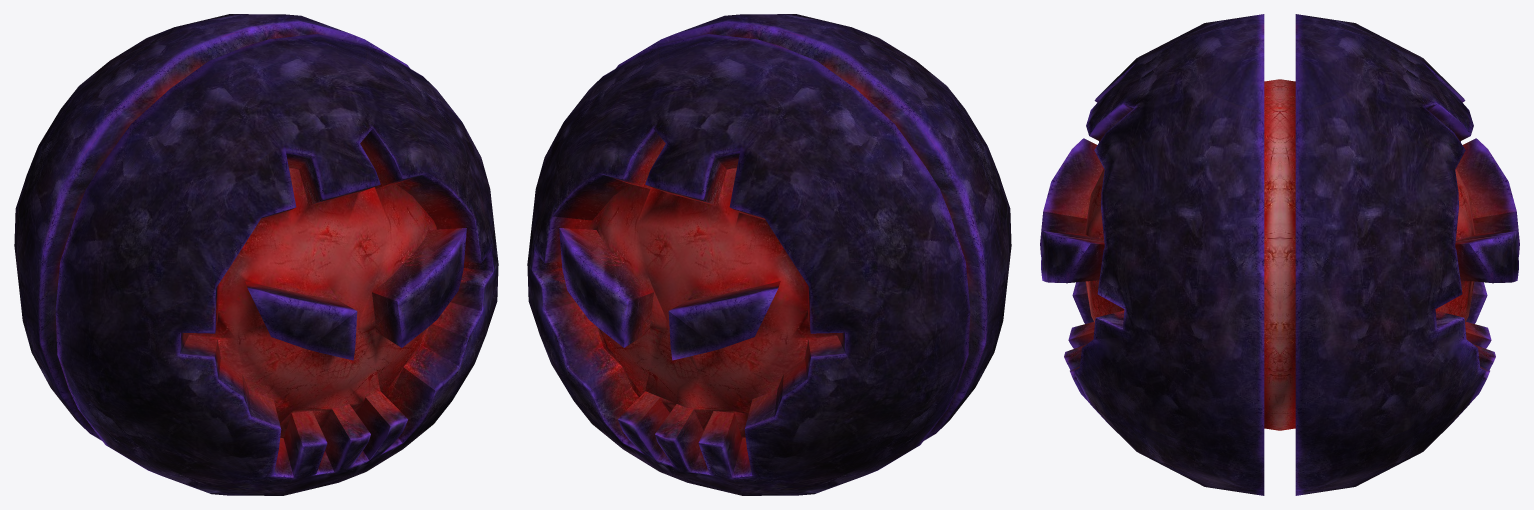
Rendered from BallSilentBomb.fbx.
The picture shows the model from 3 angles, left to right: view 1: azimuth 30°, elevation 25°; view 2: azimuth 150°, elevation 25°; view 3: azimuth 270°, elevation 25°; orthographic projection.
Parts seen in each view (by area): view 1: Cube.008; view 2: Cube.008; view 3: Cube.008.
Boxes of the visible parts, x1=… form: Cube.008: x1=14, y1=14, x2=498, y2=495; Cube.008: x1=527, y1=14, x2=1011, y2=495; Cube.008: x1=1040, y1=14, x2=1519, y2=495.
Size of the model in its own units: 194 by 196 by 193.
